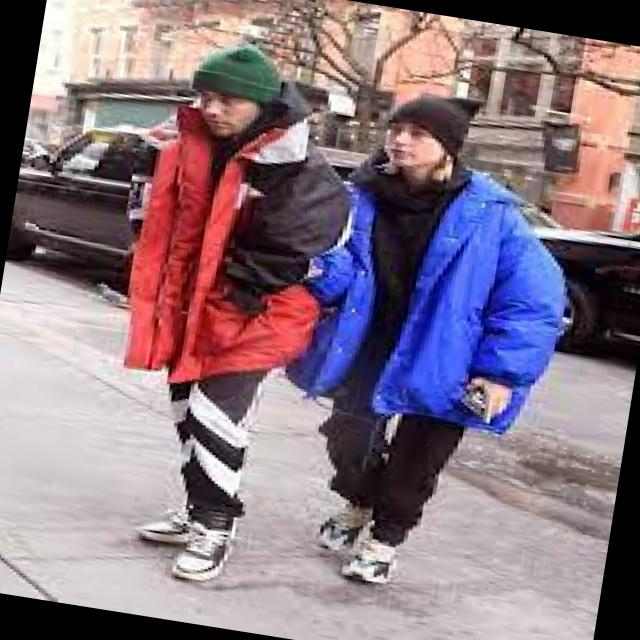Jacket: (278, 132, 605, 442), (90, 88, 363, 402)
